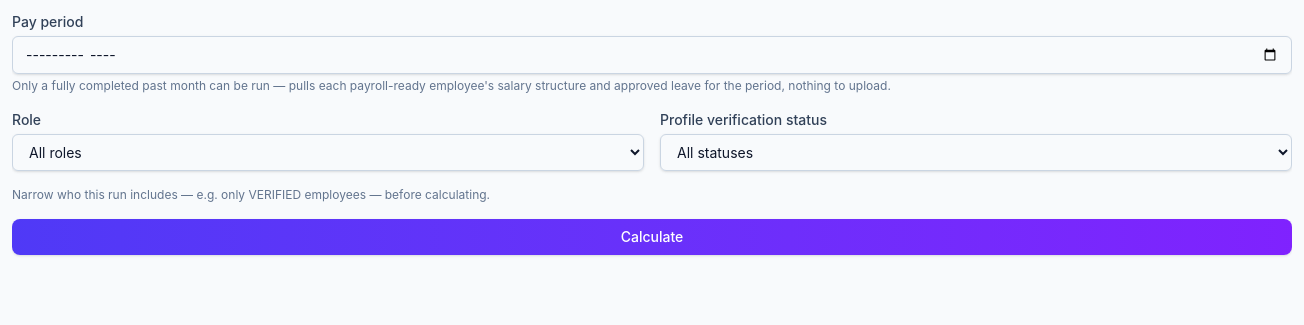
Test: PayrollRunForm › surfaces an error message when calculation fails
In the field labelled "Pay period": (652, 55) x1=12 y1=36 x2=1292 y2=74, type "2026-03"
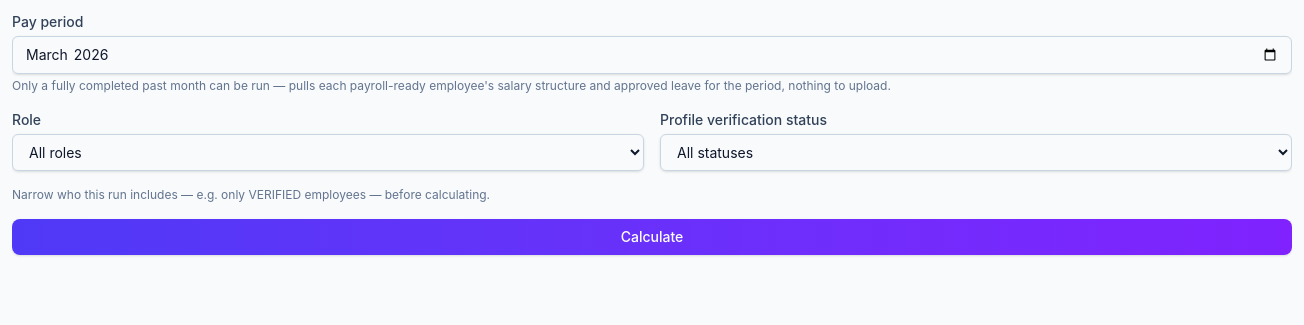
Click the button "Calculate": click(652, 237) x1=12 y1=219 x2=1292 y2=255
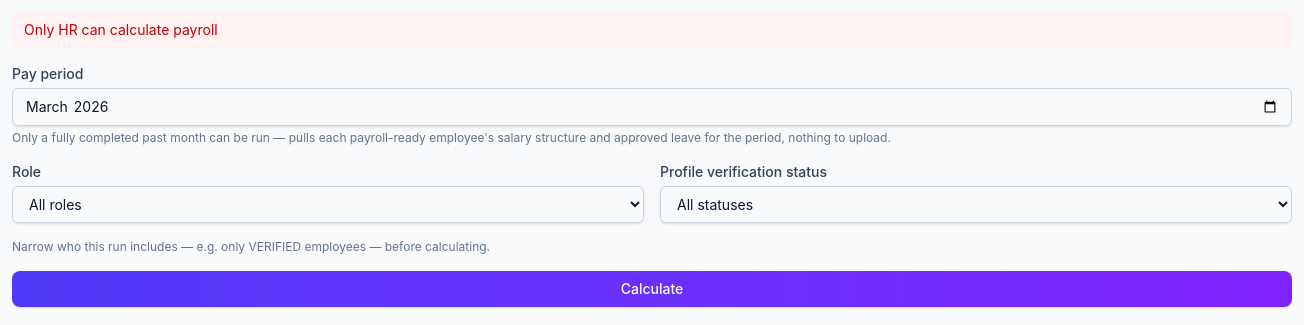
Expected: the message reads "Only HR can calculate payroll", x1=24 y1=21 x2=218 y2=38
